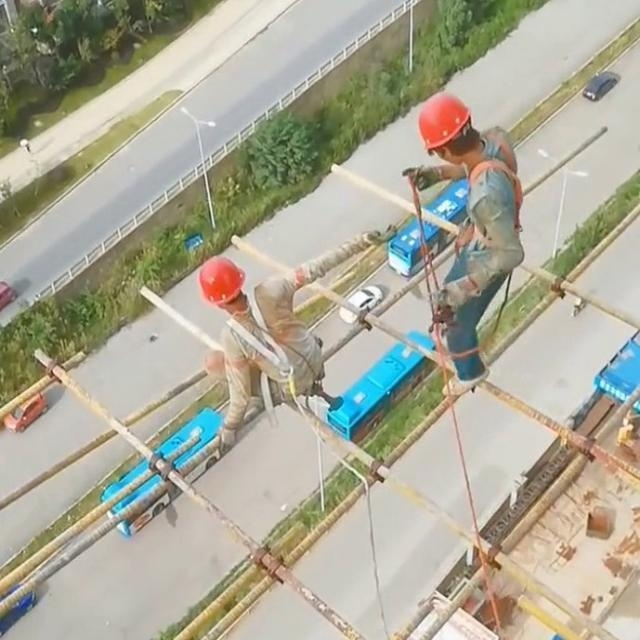Arnes_seguridad: (222, 280, 303, 402), (455, 130, 527, 254)
